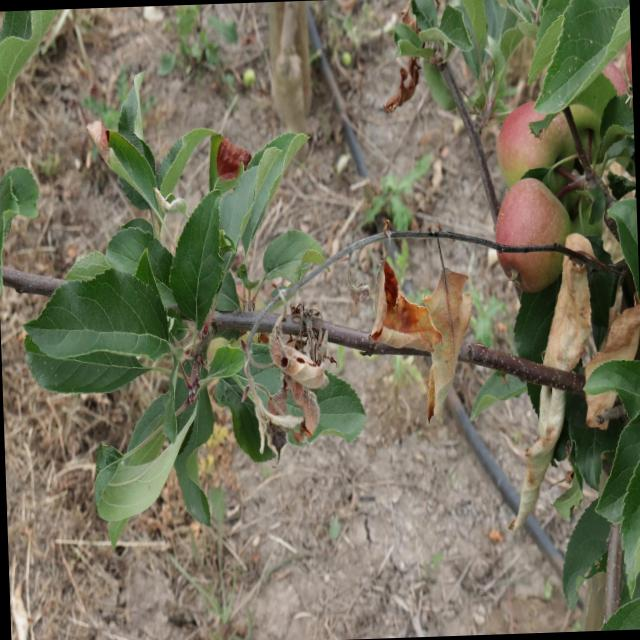-FireBlight-: (508, 241, 640, 534), (231, 295, 354, 476), (358, 252, 485, 408)
